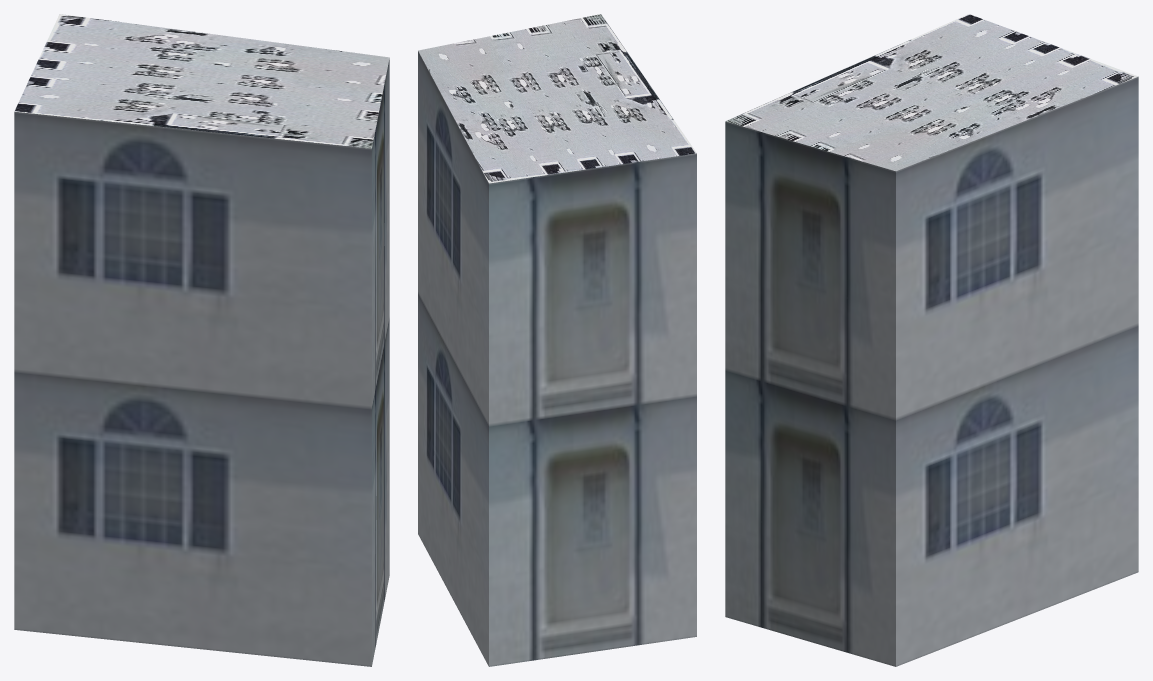
The model's file is ResTex__1794.fbx.
The picture shows the model from 3 angles, left to right: view 1: azimuth 30°, elevation 25°; view 2: azimuth 150°, elevation 25°; view 3: azimuth 270°, elevation 25°; orthographic projection. The views are drawn at different scales.
Visible parts, largest first — view 1: CityEngineMaterial_17_m, CityEngineMaterial_m; view 2: CityEngineMaterial_17_m, CityEngineMaterial_m; view 3: CityEngineMaterial_17_m, CityEngineMaterial_m.
Boxes of the visible parts, <box> form: CityEngineMaterial_17_m: <box>14,58,389,666</box>; CityEngineMaterial_m: <box>14,14,389,148</box>; CityEngineMaterial_17_m: <box>418,51,696,666</box>; CityEngineMaterial_m: <box>418,14,696,183</box>; CityEngineMaterial_17_m: <box>725,77,1138,666</box>; CityEngineMaterial_m: <box>725,14,1138,171</box>.
Size of the model in its own units: 4.09 by 6 by 4.54.
Materials: 2 (2 with a texture image).
